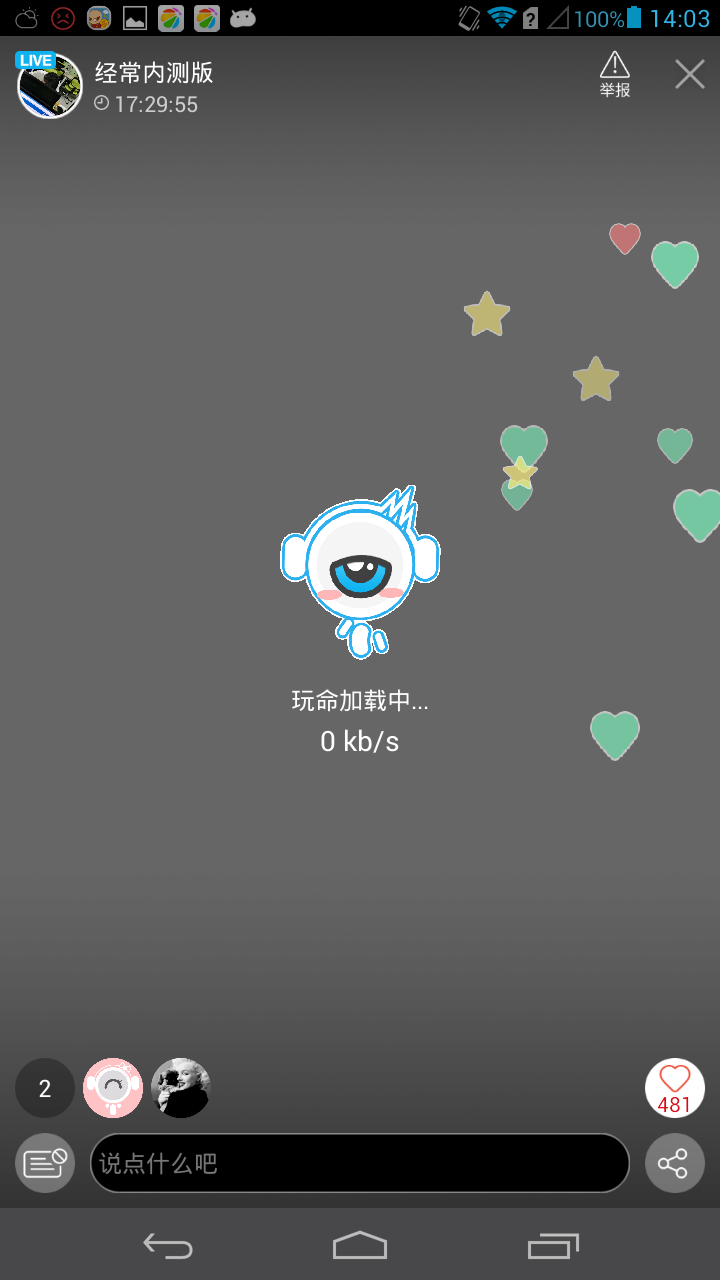imgbutton: (13, 1129, 77, 1195), (643, 1056, 706, 1121)
textview: (87, 1131, 631, 1196)
